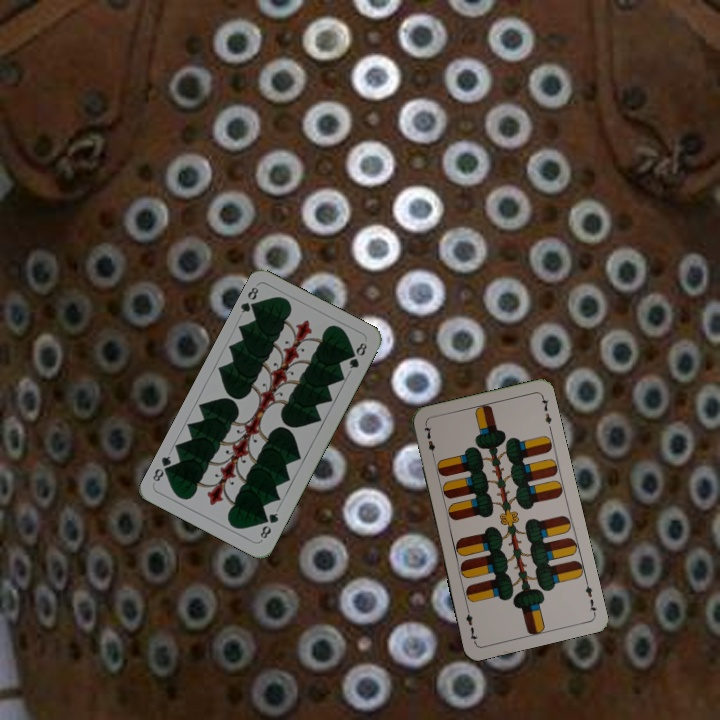E7: (581, 576, 600, 616), (420, 421, 437, 461)
G8: (256, 509, 281, 543), (237, 283, 262, 315)
